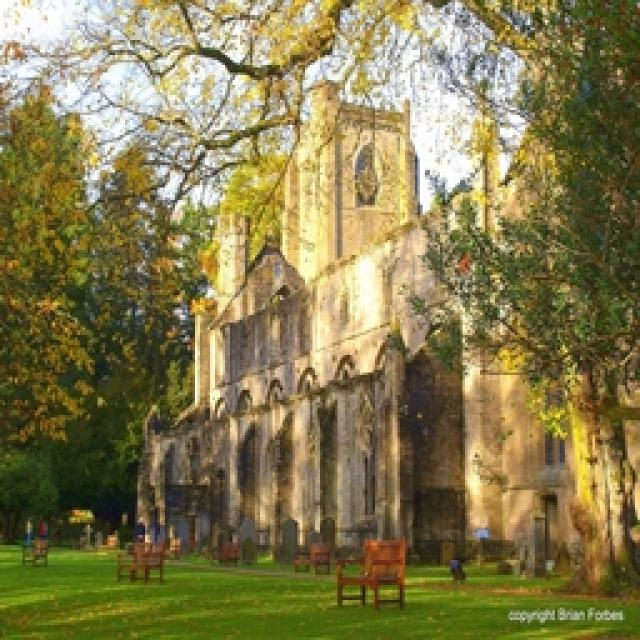Abbey: (210, 170, 552, 555)
